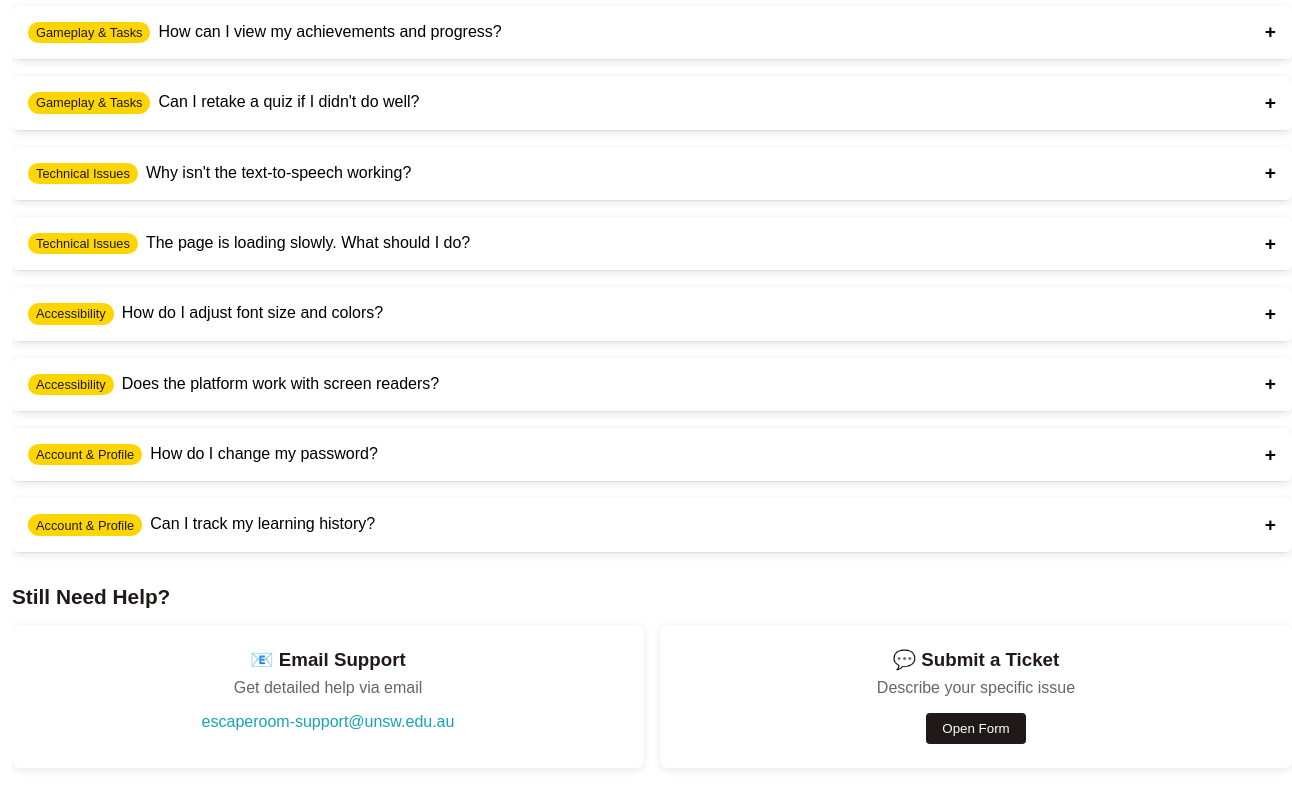
Test case: StudentHelp (Component) › opens and closes the contact form
(page scrolled)
Click the button "Open Form" at [976, 729], box [926,713,1025,744]
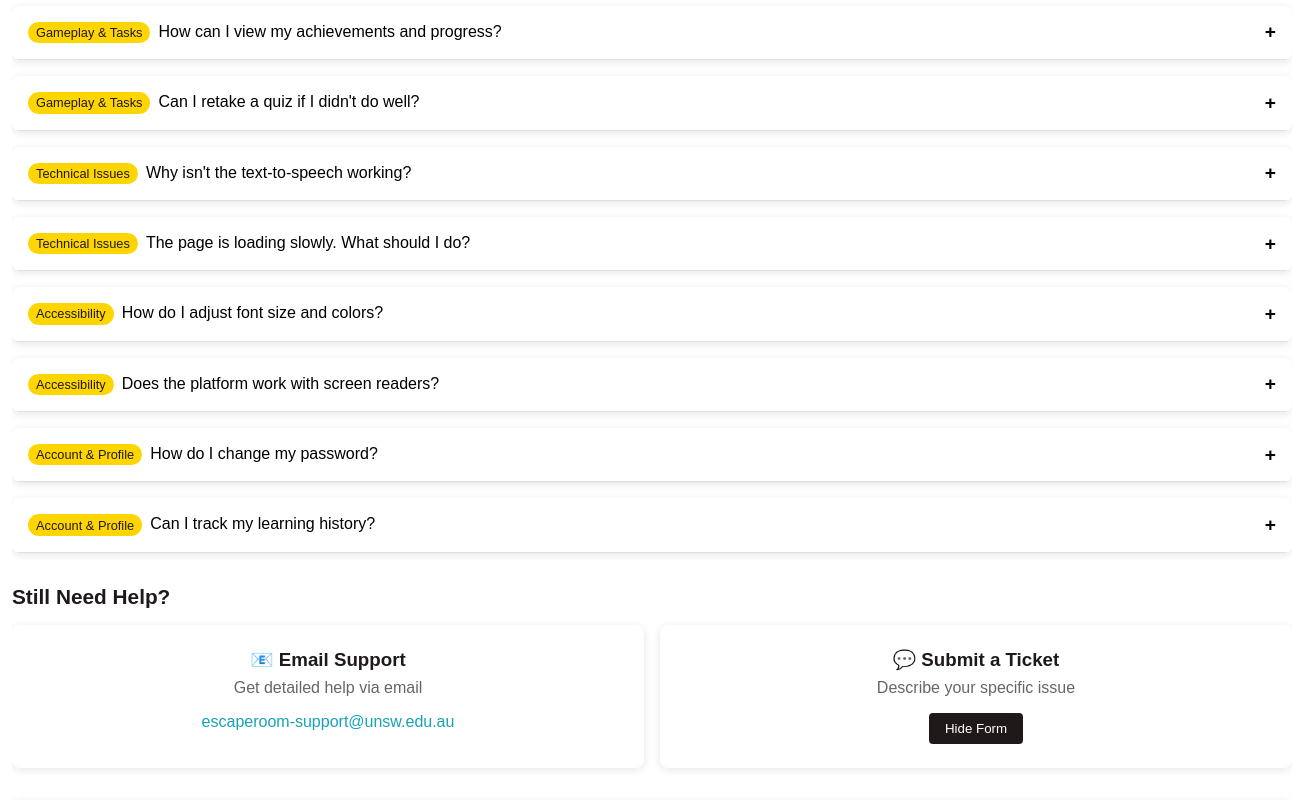
Scroll
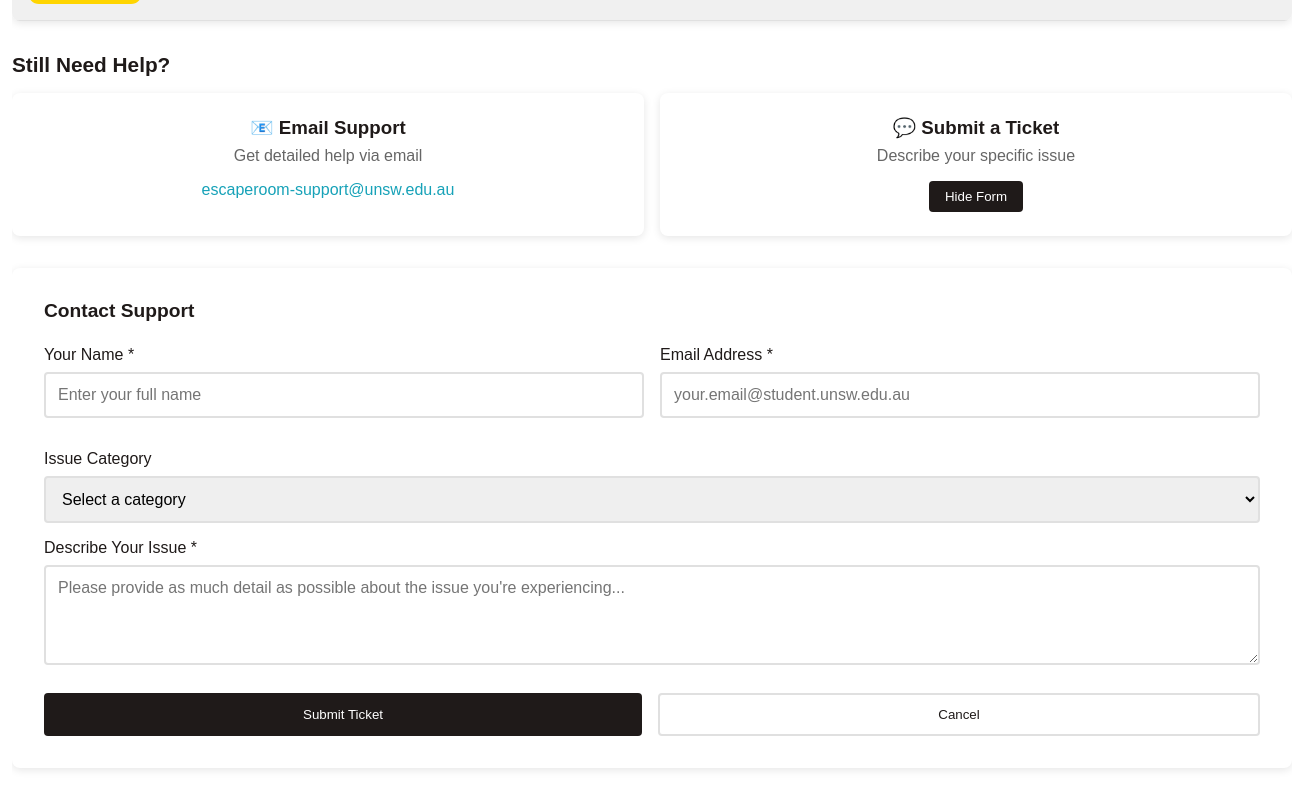
Click the button "Cancel" at [959, 715], box [658,693,1260,736]
(page scrolled)
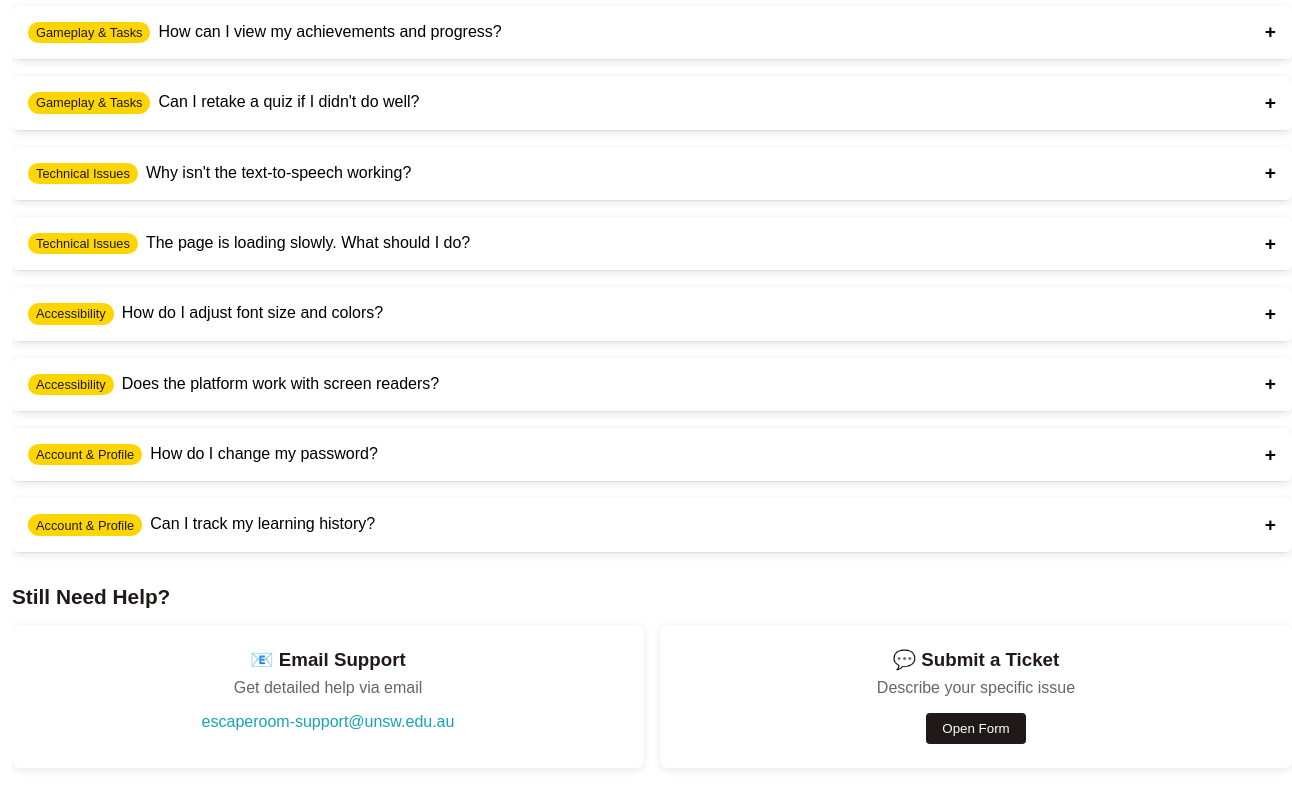
Now the form with class "support-form" is gone
